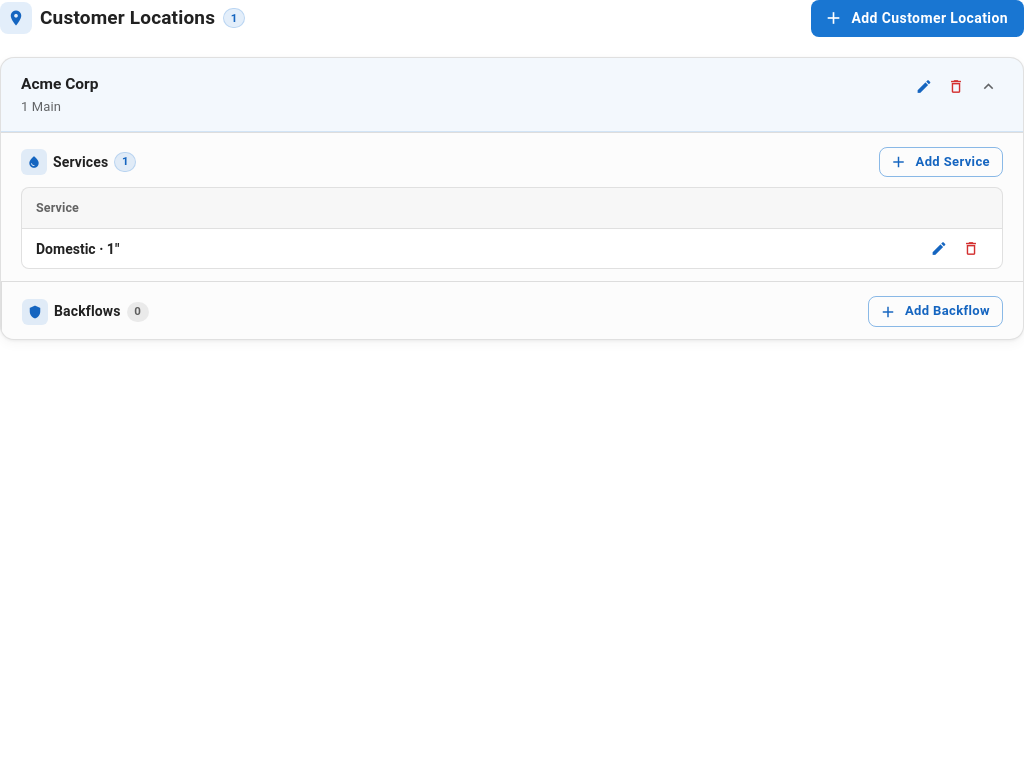
Test: collection control (via FormGenerator) › hydrates from a patch and edits an item in place
Check: the button "Acme Corp" is shown, box [21,74,98,95]
Check: the button "Domestic · 1\"" is shown, box [36,240,119,259]
Click the button named "Edit Acme Corp" at (924, 86), box [909,72,939,102]
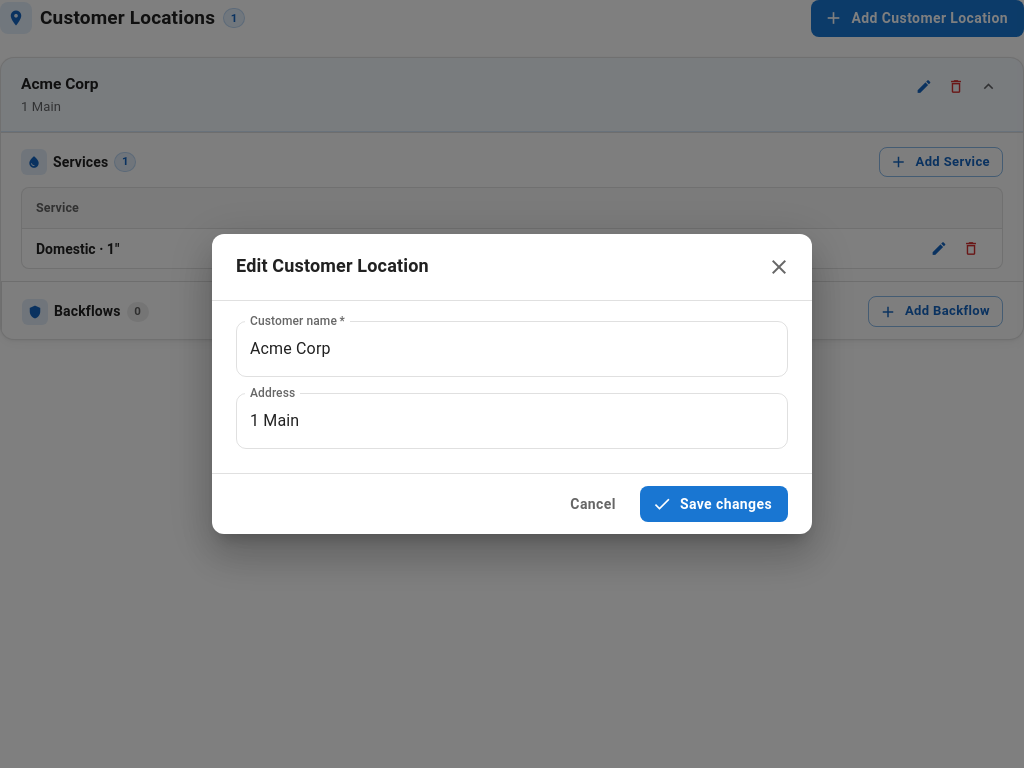
Check: the dialog is shown, box [212,234,812,534]
Replace the text in the field labelled "Customer name *" with "Acme Holdings" at (512, 349), box [236,321,788,377]
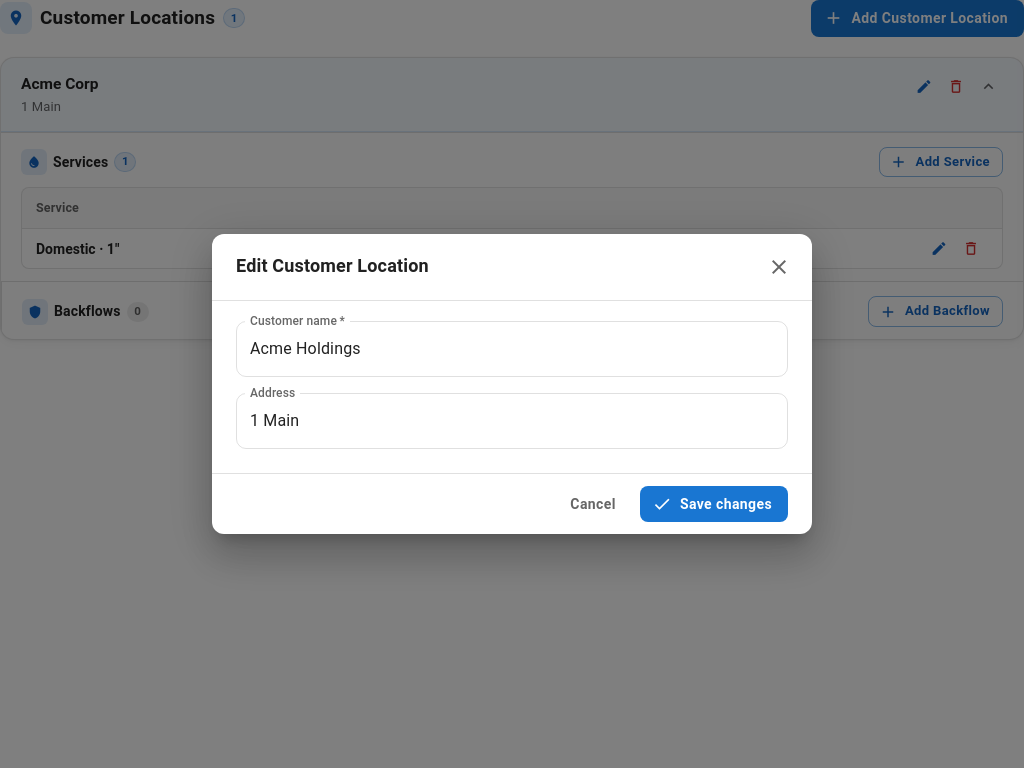
Click the button "Save changes" at (714, 504), box [640,486,788,522]
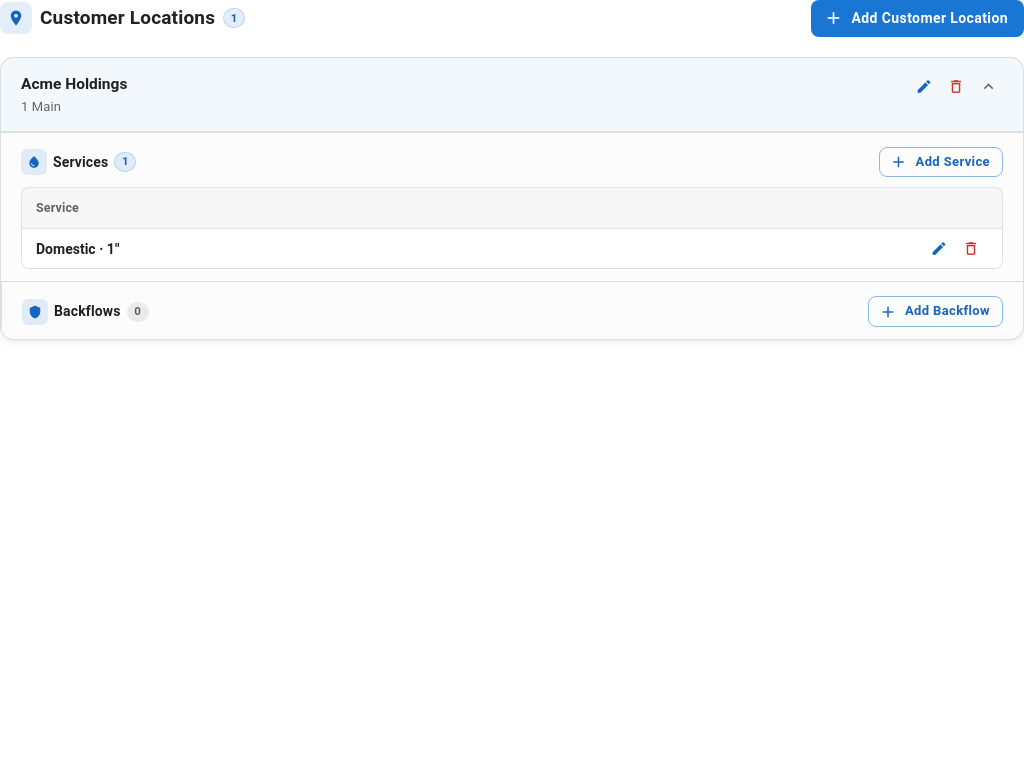
Check: the dialog is gone
Check: the button "Acme Holdings" is shown, box [21,74,127,95]
